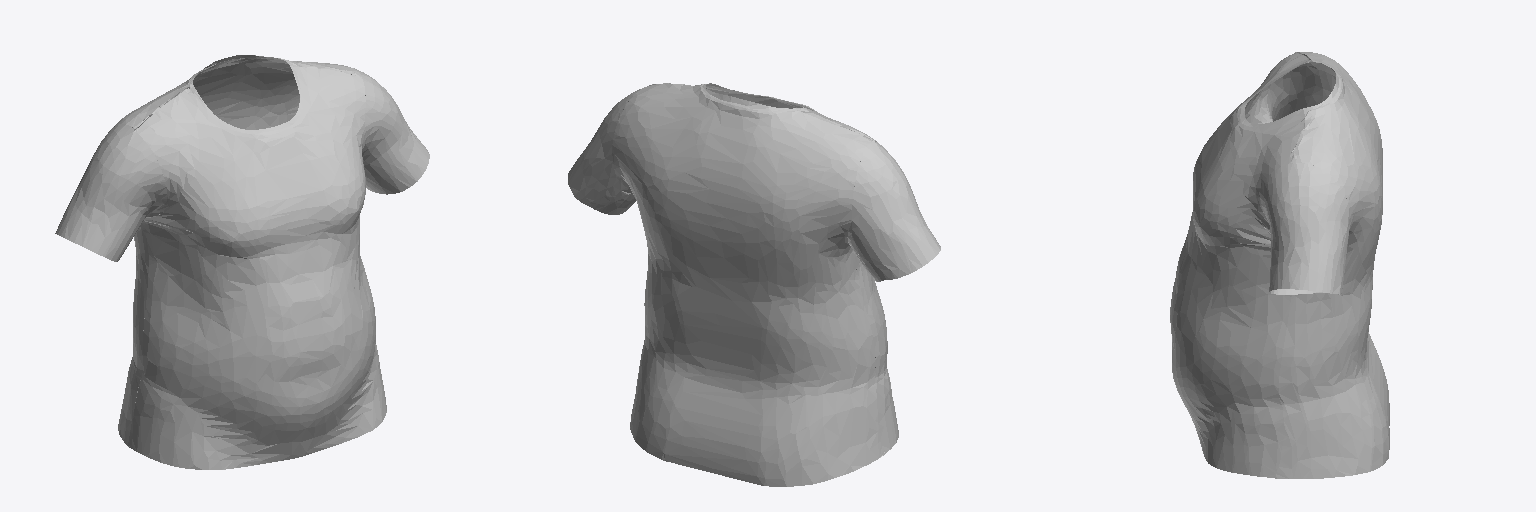
Rendered from md_fat_cloth2_d_scaled.obj.
The picture shows the model from 3 angles: view 1: azimuth 30°, elevation 25°; view 2: azimuth 150°, elevation 25°; view 3: azimuth 270°, elevation 25°; orthographic projection.
Parts seen in each view (by area): view 1: md_fat_cloth2:Mesh1; view 2: md_fat_cloth2:Mesh1; view 3: md_fat_cloth2:Mesh1.
Part boxes in pixels (x1,y1,x2,y2): md_fat_cloth2:Mesh1: (55, 55, 429, 469); md_fat_cloth2:Mesh1: (568, 83, 940, 486); md_fat_cloth2:Mesh1: (1170, 52, 1389, 478).
Bounding box in the file's own units: 2.23 × 2.09 × 1.16.